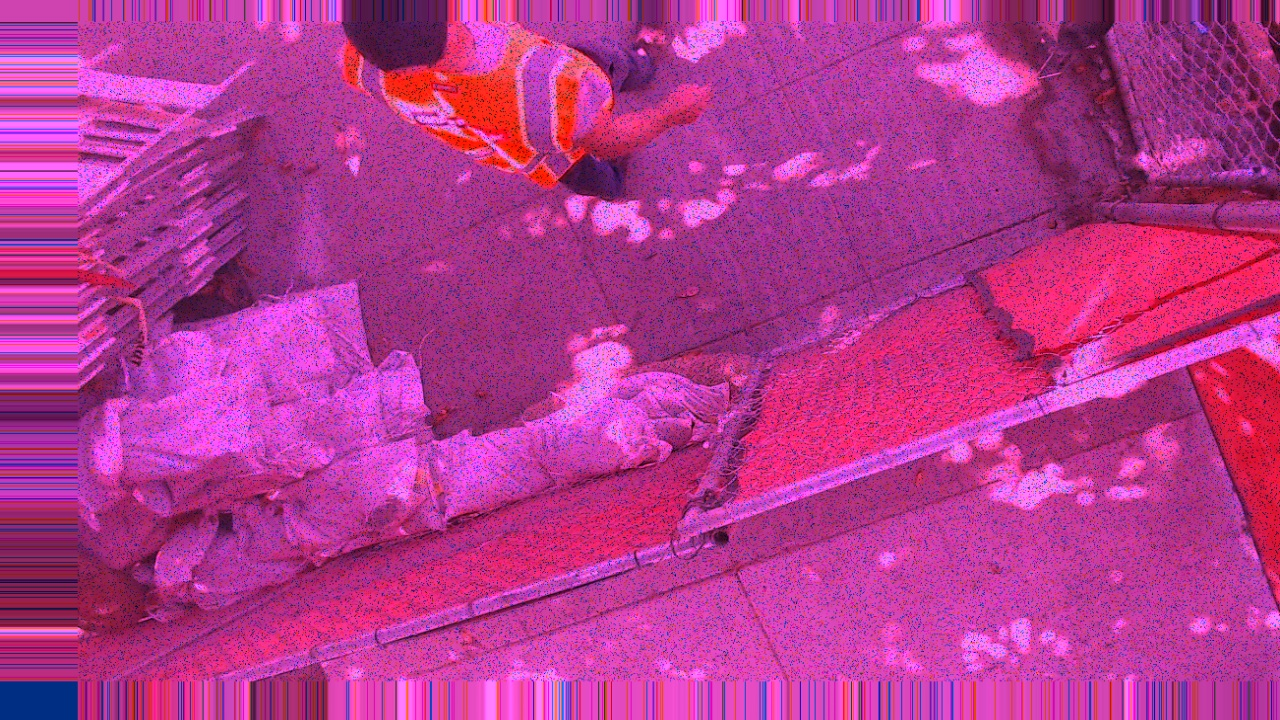person: (343, 21, 717, 206)
safetyvest: (342, 21, 615, 187)
